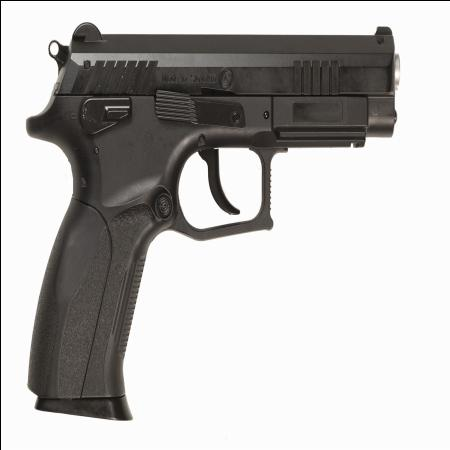Pistol: (25, 20, 400, 418)
